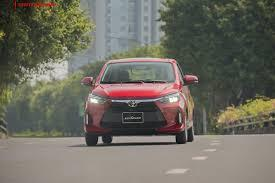toyota: (128, 100, 137, 109)
